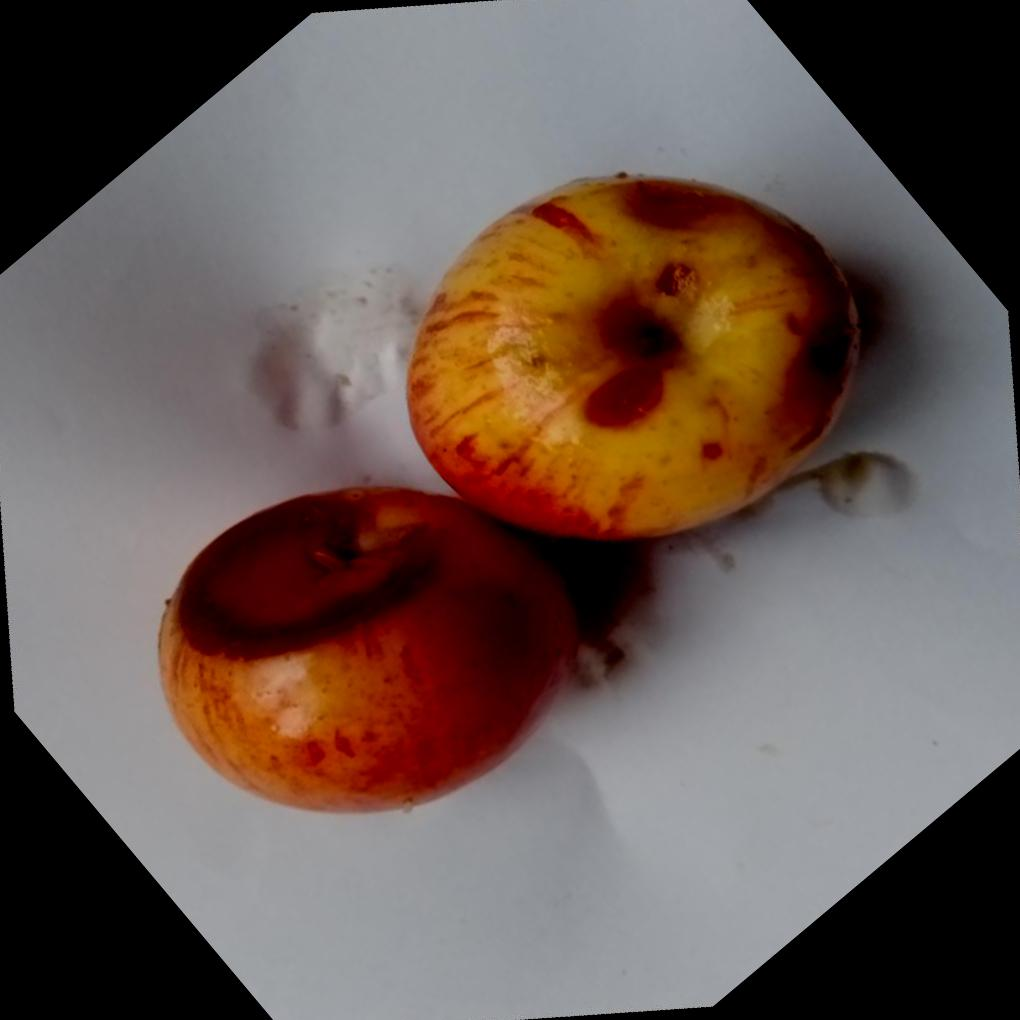FreshOrange: (154, 170, 853, 813)
